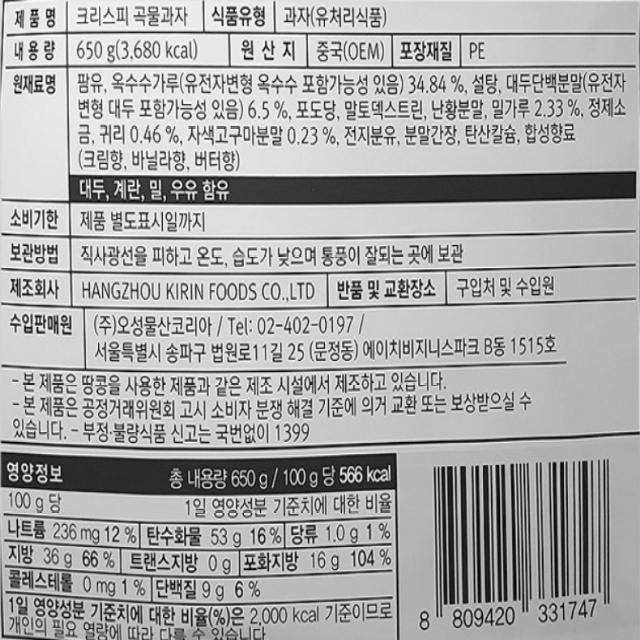Nutrition Label: (0, 443, 401, 639)
